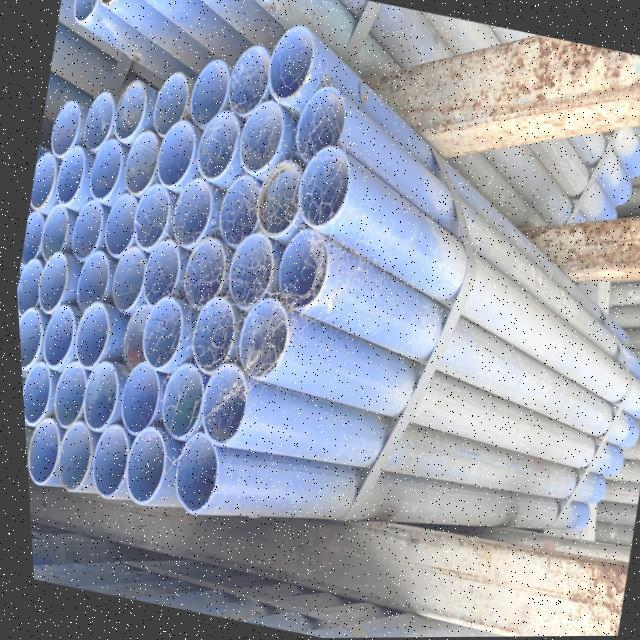pipe: (273, 228, 329, 314), (296, 147, 349, 228), (231, 296, 283, 377), (172, 234, 225, 313), (296, 87, 348, 166), (180, 61, 227, 146), (160, 178, 216, 249), (195, 364, 245, 443), (218, 45, 267, 123), (223, 233, 271, 312), (212, 174, 256, 260), (250, 162, 299, 239), (166, 431, 211, 514), (239, 101, 289, 174), (152, 362, 200, 438), (266, 29, 315, 103), (113, 363, 160, 439), (118, 420, 161, 503), (82, 416, 125, 498), (185, 297, 232, 372), (194, 107, 239, 183), (148, 68, 192, 145), (136, 295, 181, 368), (154, 117, 199, 189), (137, 238, 183, 308), (68, 245, 107, 323), (47, 351, 82, 436), (130, 182, 172, 252), (102, 244, 142, 317), (74, 88, 117, 155), (77, 360, 114, 437), (121, 124, 161, 195), (22, 150, 61, 222), (100, 184, 135, 262), (108, 78, 149, 143), (66, 198, 107, 262), (45, 423, 84, 488), (21, 416, 56, 486), (32, 251, 67, 321), (67, 304, 104, 370), (86, 136, 124, 200), (32, 202, 69, 261), (53, 143, 87, 205), (34, 307, 69, 367), (48, 97, 82, 156), (116, 300, 143, 374), (16, 210, 47, 268), (18, 363, 45, 427), (14, 260, 40, 316), (15, 305, 38, 368), (72, 0, 98, 24)
